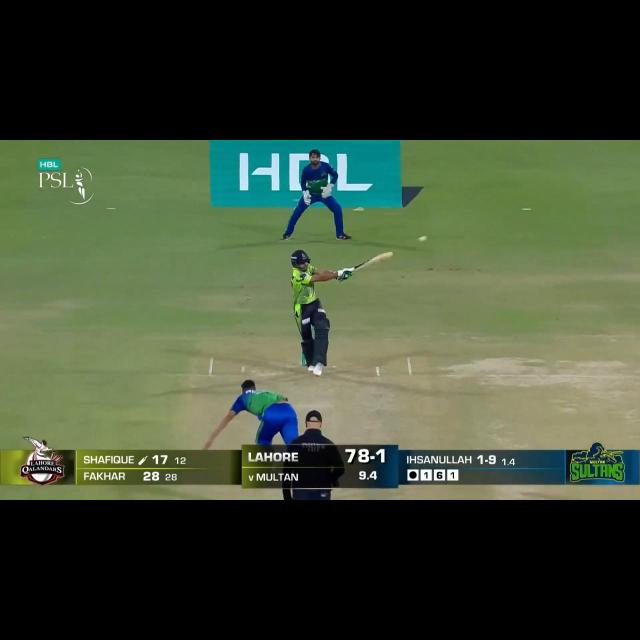bat: (352, 252, 395, 271)
toe: (384, 250, 396, 258)
